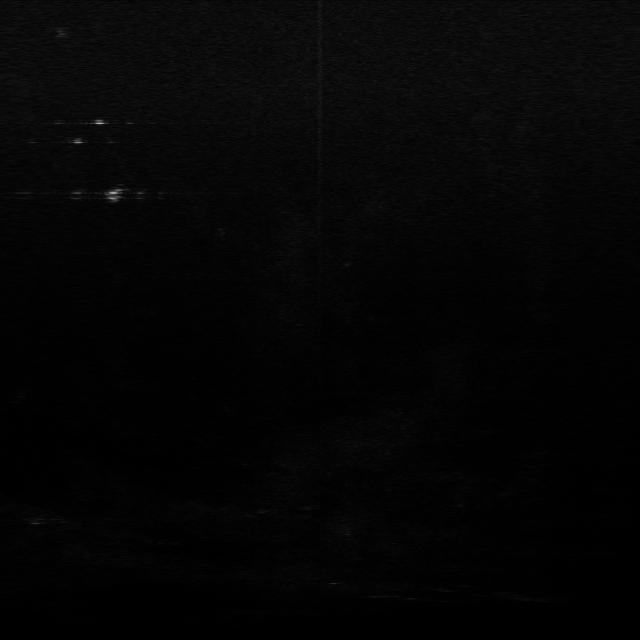rov: (102, 186, 124, 204)
